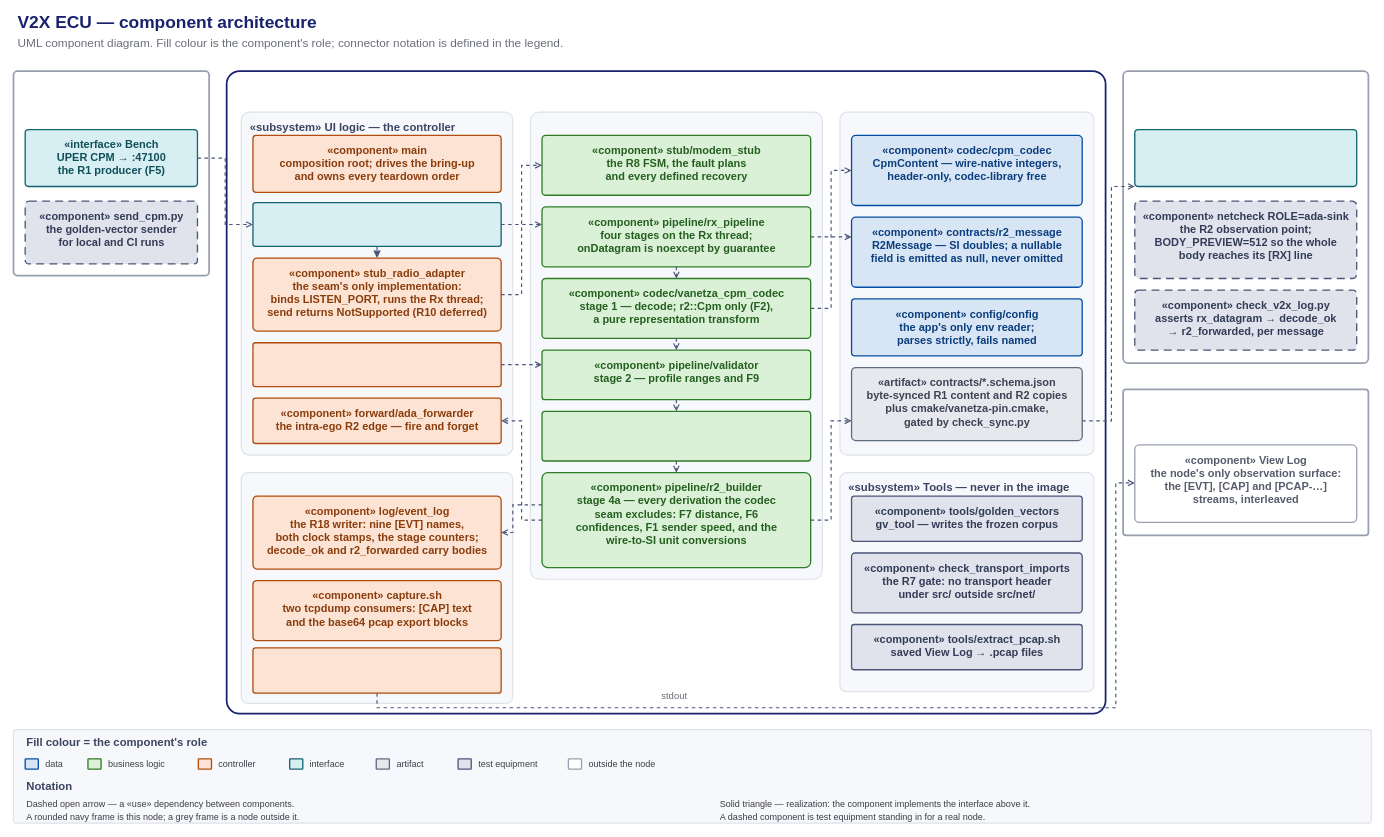
The diagram is 1384 pixels wide and 837 high, and some of its shapes have lost their labels. Here are the shapes that lost their labels. From the top down, the box of each, then its label:
(12, 70, 210, 276): «node» Bench Container node · 10.99.0.10
(1134, 129, 1357, 187): «interface» ADA-ECU R2 JSON → :47200 the R2 consumer
(252, 202, 501, 247): «interface» IRadioAdapter init · configure · subscribeRx · send
(1122, 70, 1369, 364): «node» ADA-ECU Container node · 10.99.0.12
(839, 111, 1094, 455): «subsystem» Data
(252, 342, 501, 387): «component» net/udp_socket the sole socket-API holder
(529, 111, 823, 579): «subsystem» Business logic
(225, 70, 1106, 714): «node» V2X-ECU Container node · 10.99.0.11 · image m1-v2x-ecu:latest
(541, 410, 811, 461): «component» pipeline/deduper stage 3 — the sliding window
(1122, 388, 1369, 536): CarSky platform observation surface
(240, 472, 513, 704): «subsystem» Evidence — R18 and R6
(252, 647, 501, 693): «component» entrypoint.sh capture in the background, then exec
